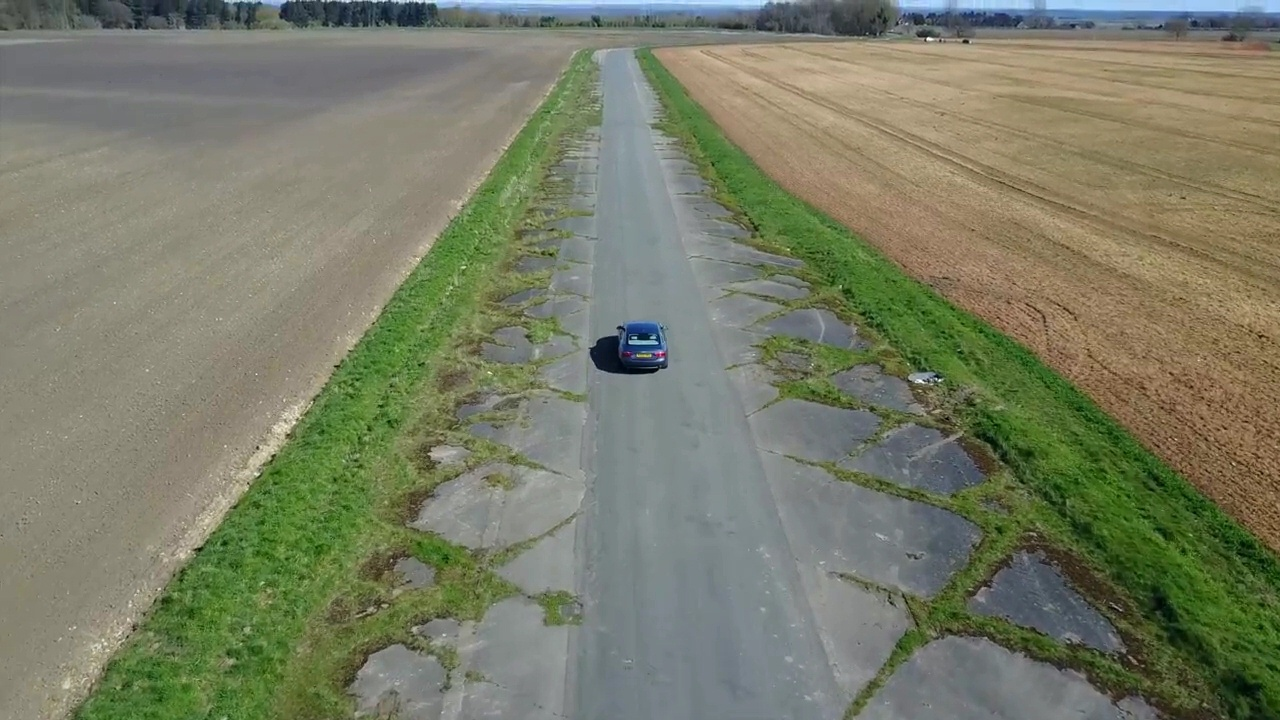araba: (611, 319, 669, 375)
